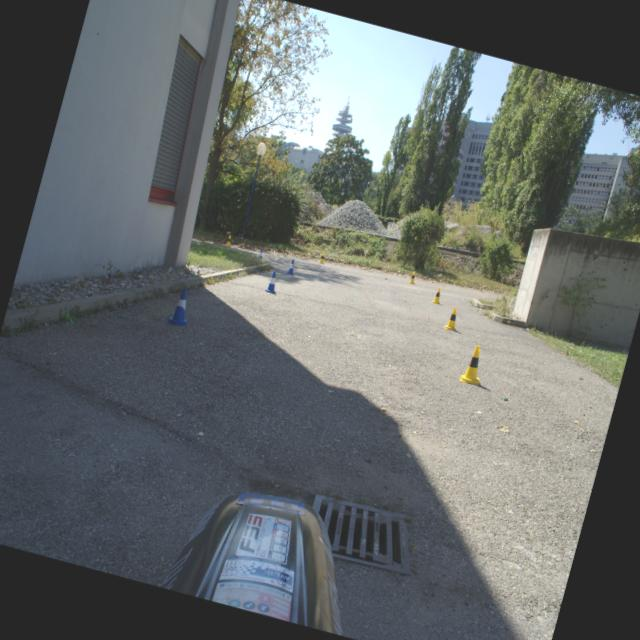blue_cone: (166, 286, 196, 328), (263, 270, 281, 294), (285, 258, 298, 276), (256, 248, 264, 259)
yellow_cone: (459, 343, 488, 385), (443, 306, 462, 332), (430, 286, 444, 305), (407, 270, 418, 284), (224, 234, 233, 247), (318, 252, 326, 264)
